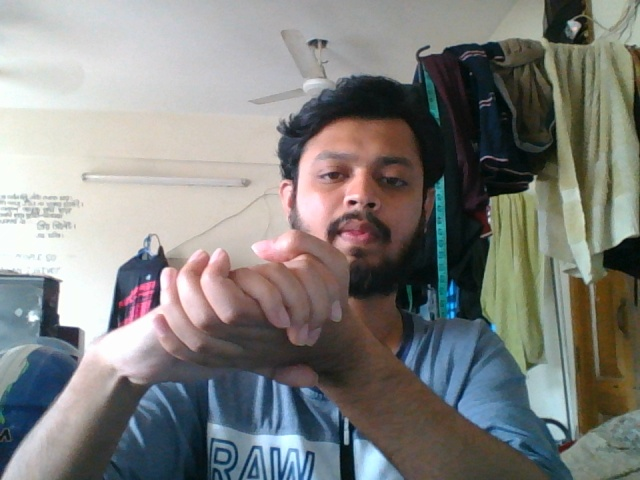bondhu: (39, 224, 442, 428)
